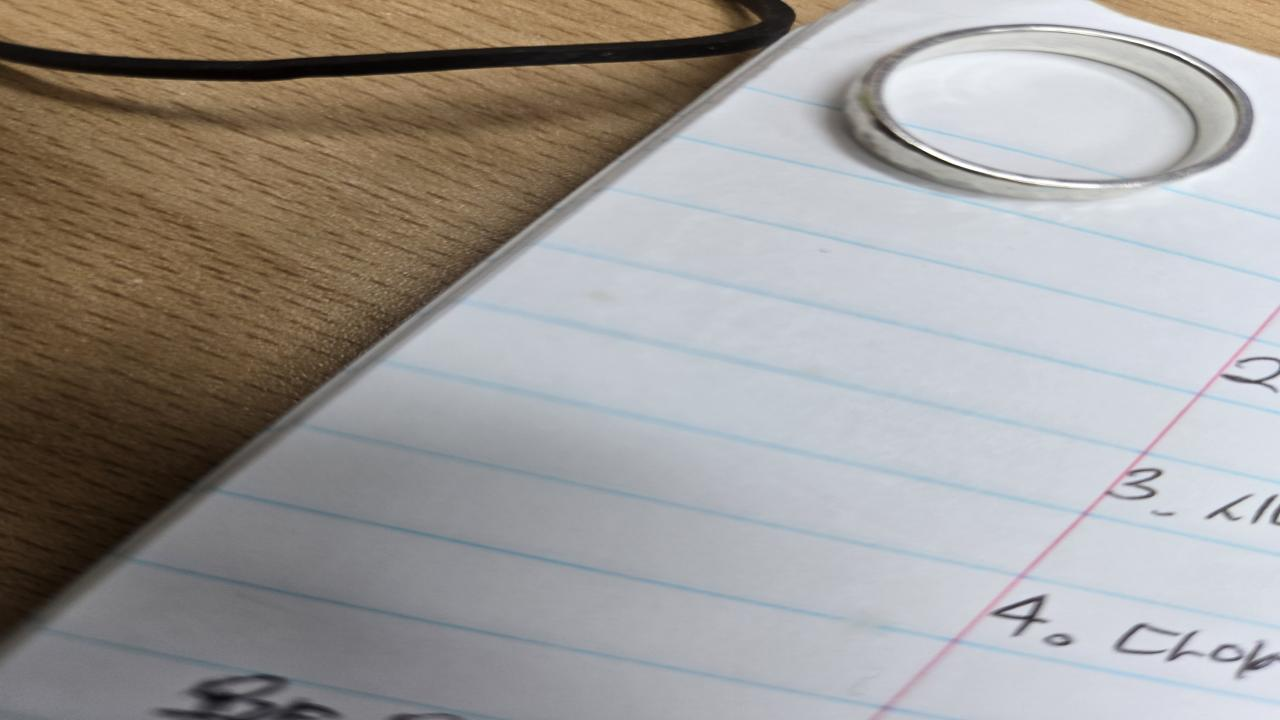ring: (838, 25, 1256, 201)
